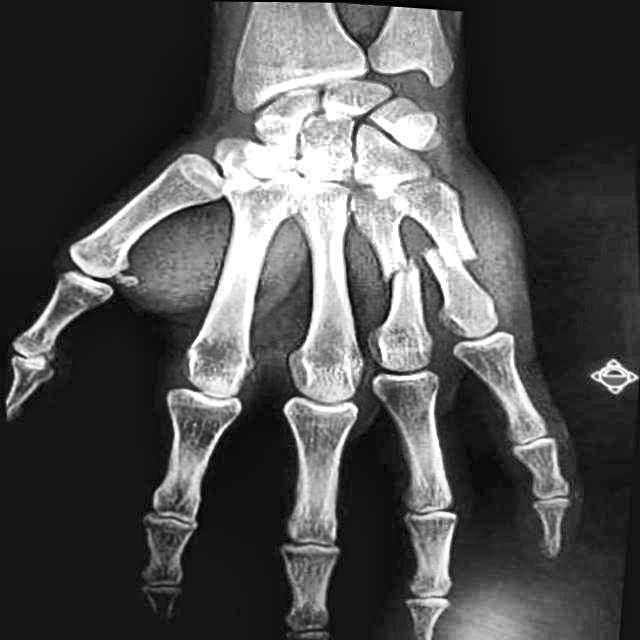Transverse: (417, 209, 497, 298)
Transverse Displaced: (349, 235, 436, 310)
